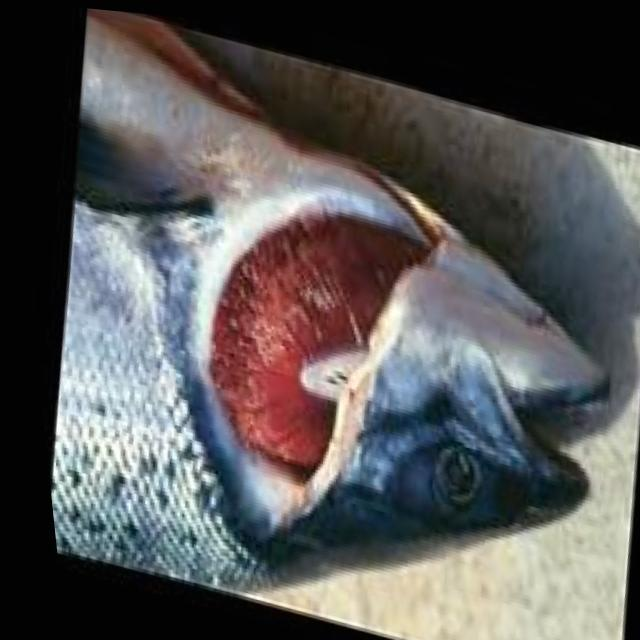Gill Disease: (166, 127, 460, 577)
